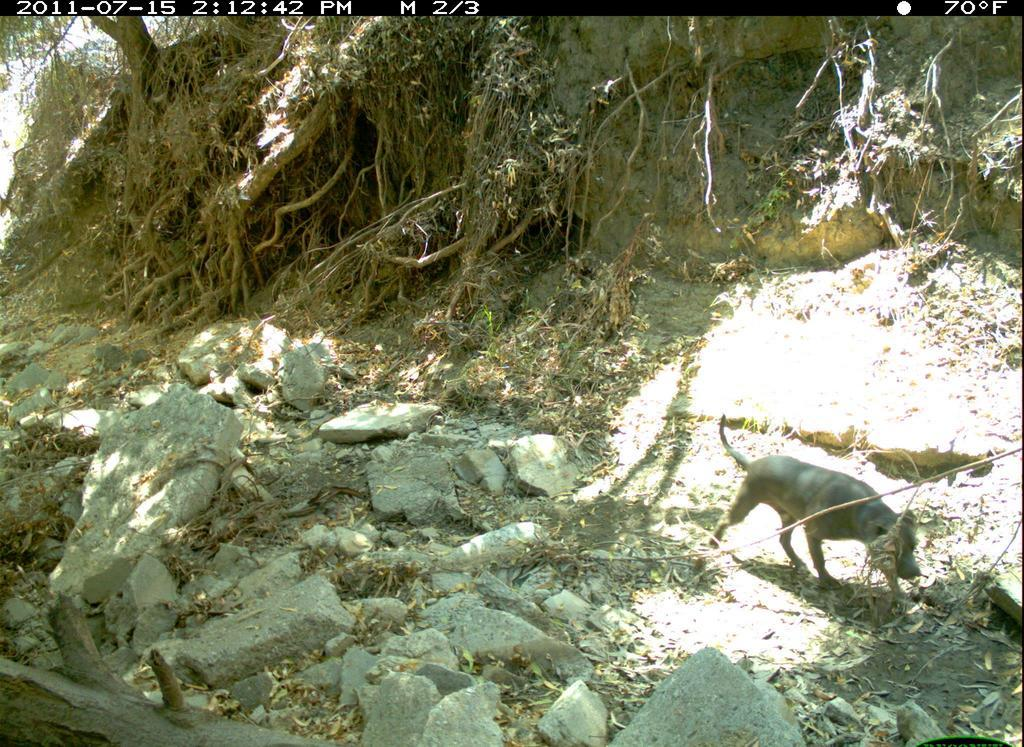dog: (712, 405, 922, 617)
